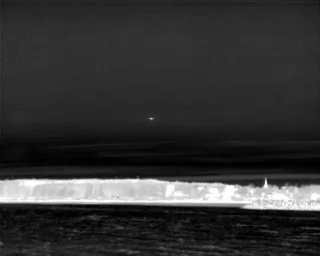BIRD: (147, 115, 156, 124)
